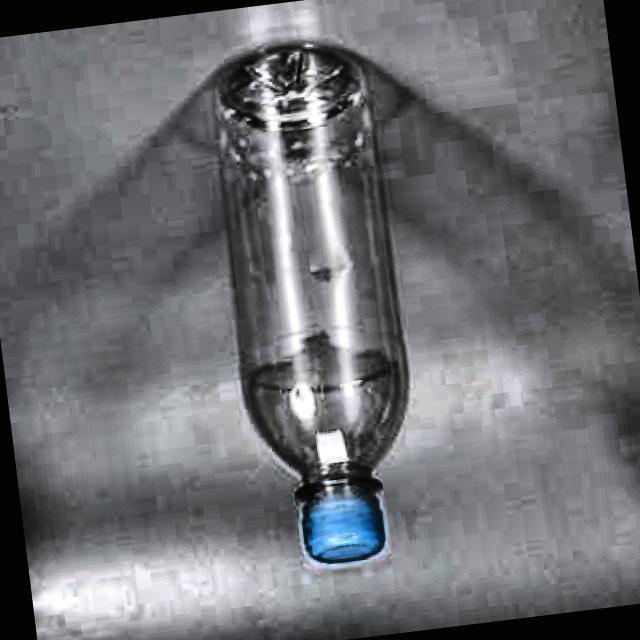plastic bottle: (214, 44, 409, 565)
